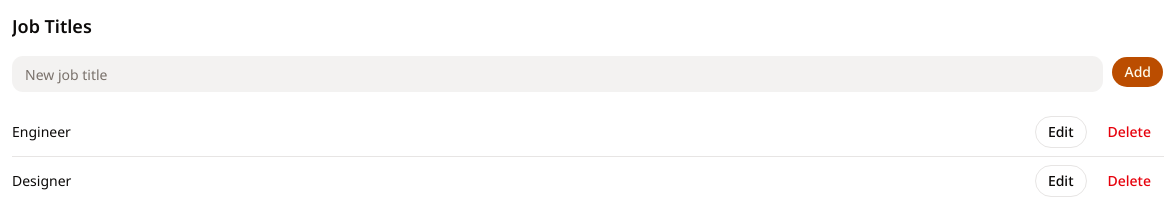
Scenario: JobTitleManager › shows an inline edit input when edit is clicked
Step 1. Click the button "Edit" in the row of "Engineer" → (1061, 132), box [1035, 116, 1086, 148]
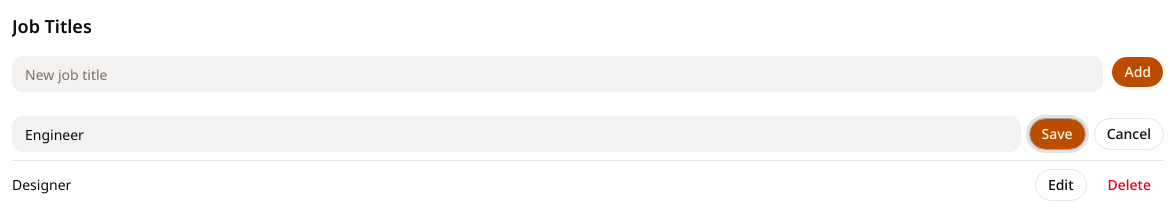
Now the field showing "Engineer" is shown, box [12, 116, 1020, 152]
